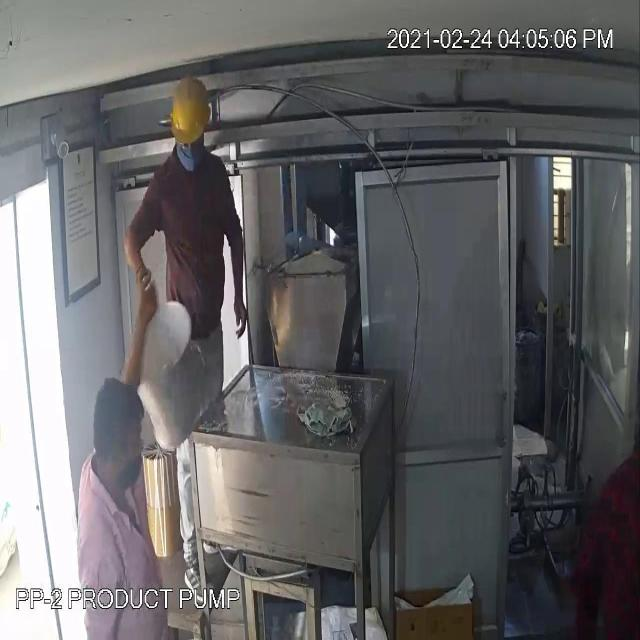helmet: (164, 73, 216, 155)
no-helmet: (87, 376, 147, 460)
